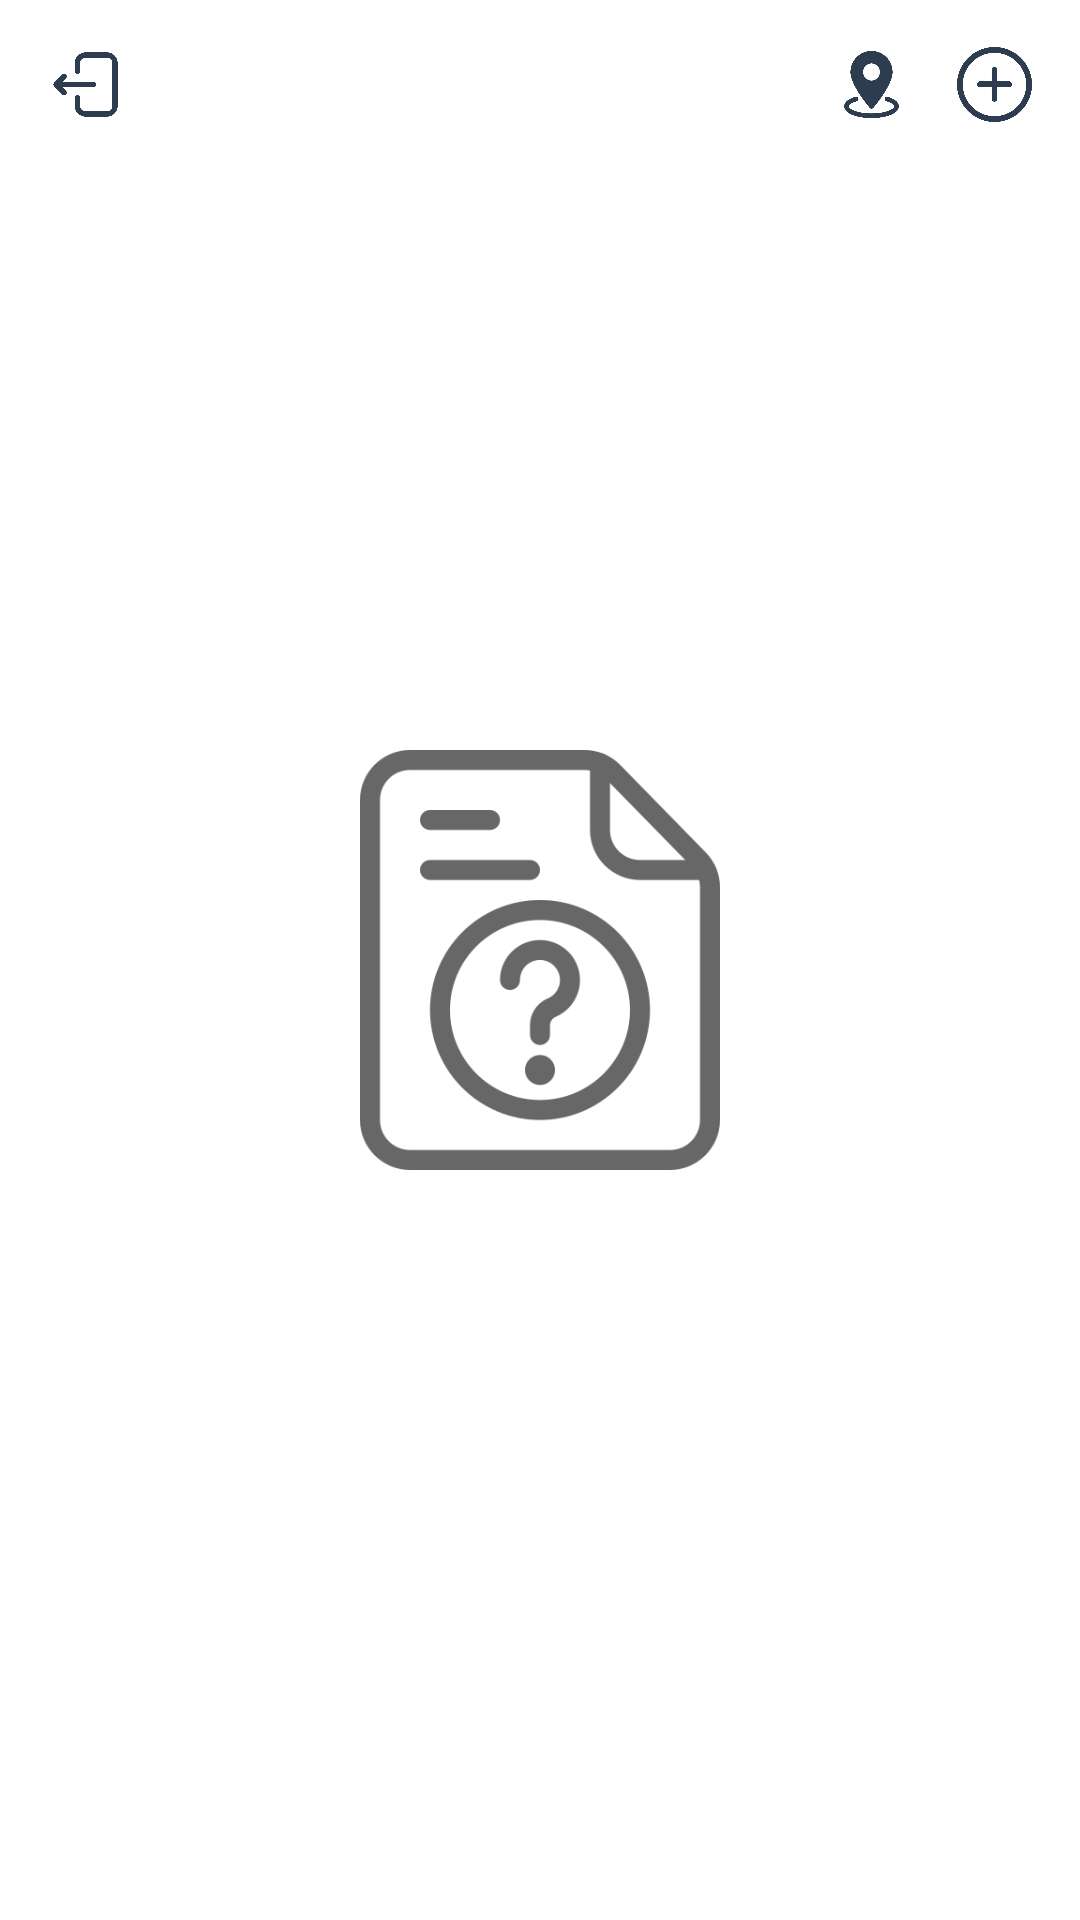

Icon click points for this 1080px x 1920px phone screenshot, format (x=x, y=y):
add: (x=994, y=84)
location: (x=871, y=84)
